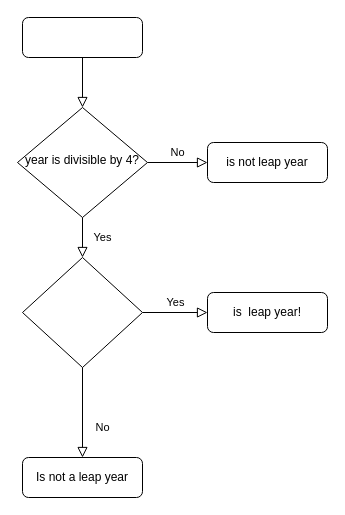
This 345x515 diagram has some shape labels left out. Each missing label, with the centre of its shape:
entrer year: (82,37)
year is divisible by 100 and by 400?: (82,312)
